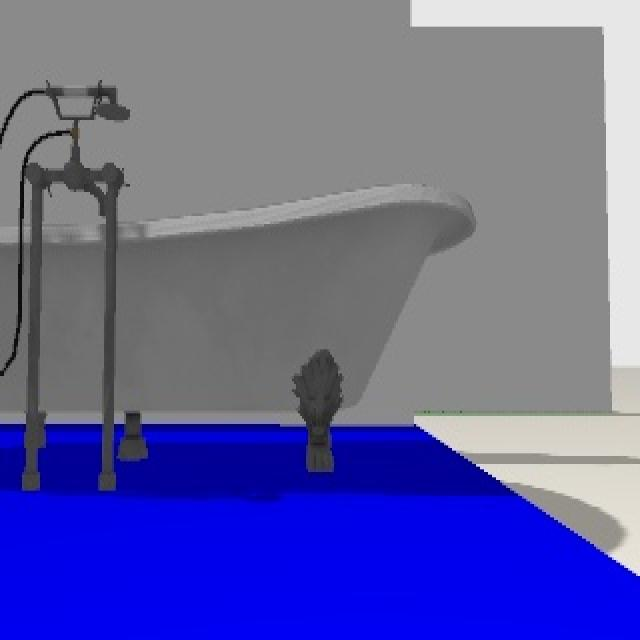bathtub: (0, 76, 484, 502)
